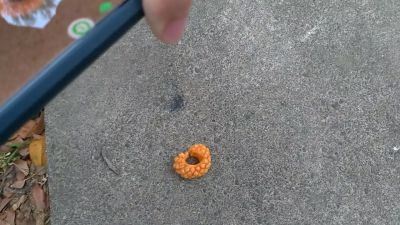eggs: (172, 142, 214, 182)
